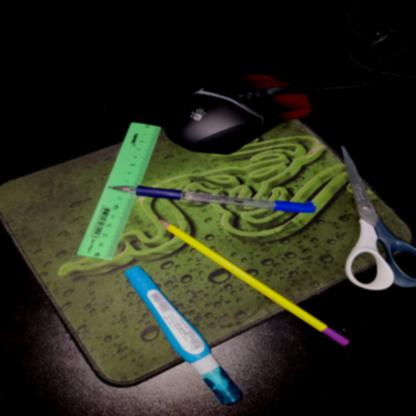pen: (104, 176, 320, 216)
